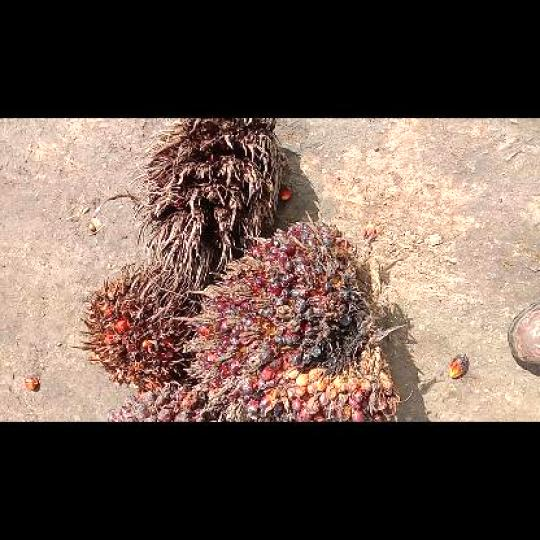kurang masak: (100, 382, 219, 420)
masak: (174, 209, 415, 419)
terlalu masak: (69, 260, 209, 397)
